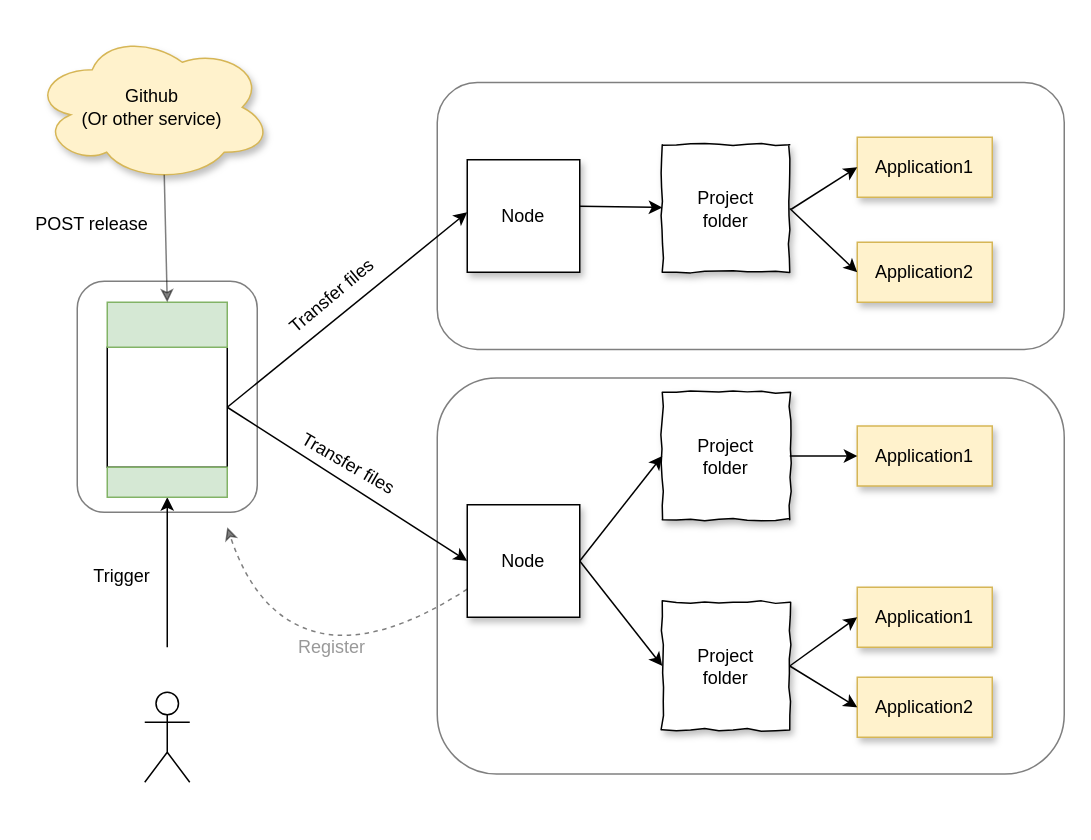
Image size: 1091x840. Some labels were removed from this diagram. Each missing label, with the centre of its shape:
Admin: (x=166, y=736)
Deployer: (x=166, y=406)
UI: (x=166, y=481)
Webhook: (x=166, y=324)
